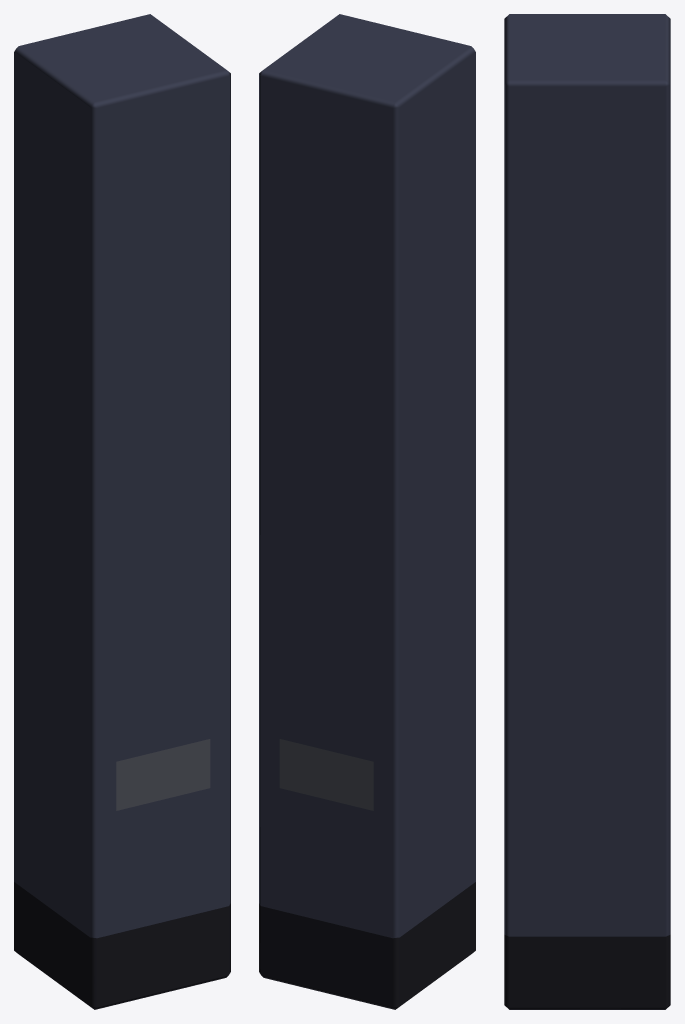
The model's file is int.post.glb.
The picture shows the model from 3 angles, left to right: view 1: azimuth 30°, elevation 25°; view 2: azimuth 150°, elevation 25°; view 3: azimuth 270°, elevation 25°; orthographic projection. The views are drawn at different scales.
Visible parts, largest first — view 1: int.post; view 2: int.post; view 3: int.post.
Boxes of the visible parts, x1,y1,x2,y2 form: int.post: [14, 14, 230, 1009]; int.post: [259, 14, 475, 1009]; int.post: [504, 14, 670, 1009].
Bounding box in the file's own units: 0.375 × 2.31 × 0.3755.
